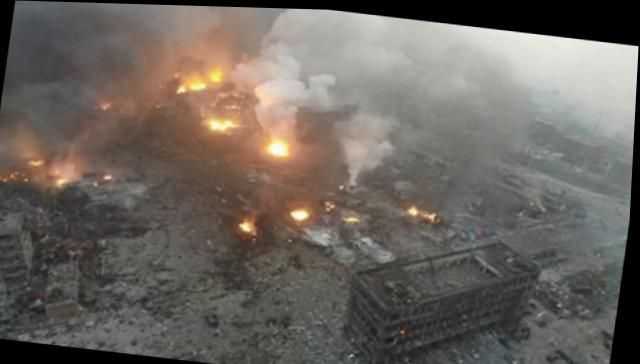fire: (264, 133, 294, 155), (203, 113, 239, 129), (182, 70, 204, 88), (289, 202, 310, 218), (206, 62, 223, 81), (237, 215, 256, 229), (406, 202, 420, 212)
